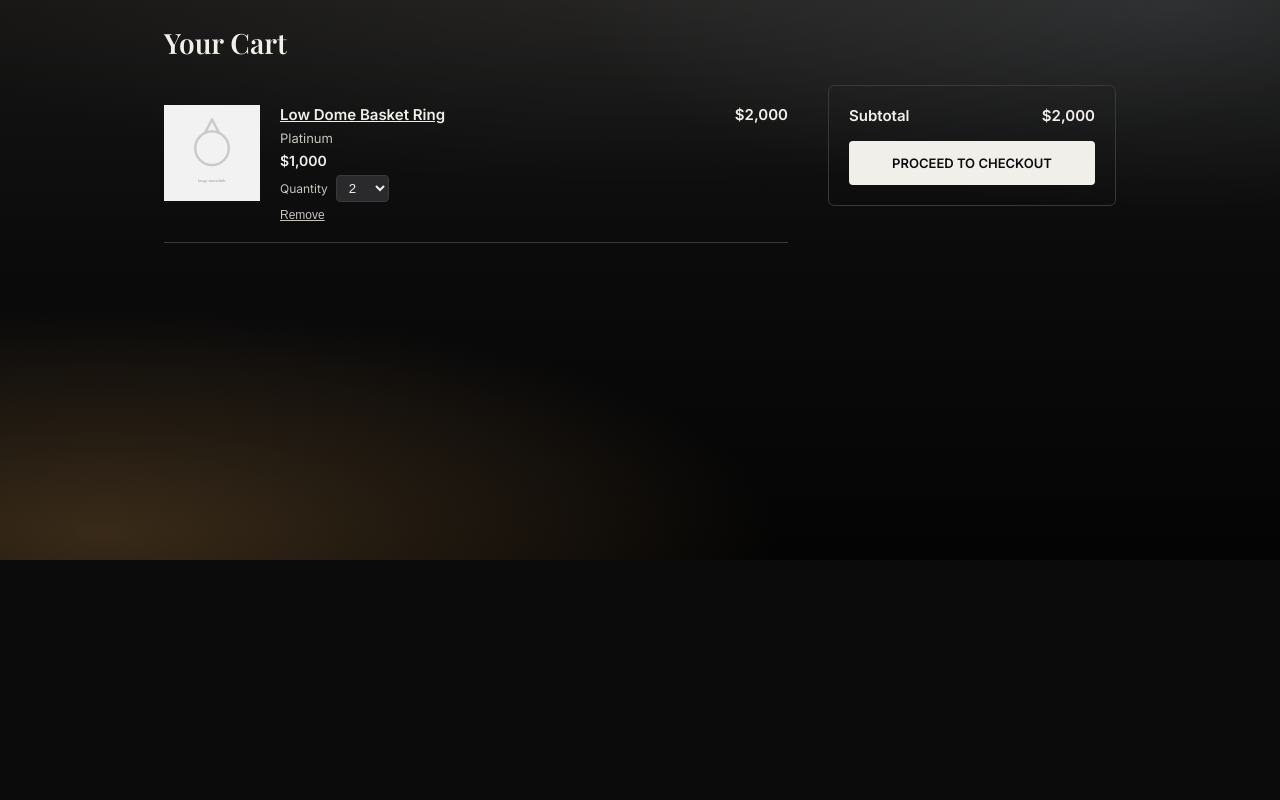
Test: CartPage › removes an item via the API when Remove is clicked
expect the link "Low Dome Basket Ring" is shown: met, box [280,105,445,124]
Click the button "Remove": [302, 215] box [280,208,325,222]
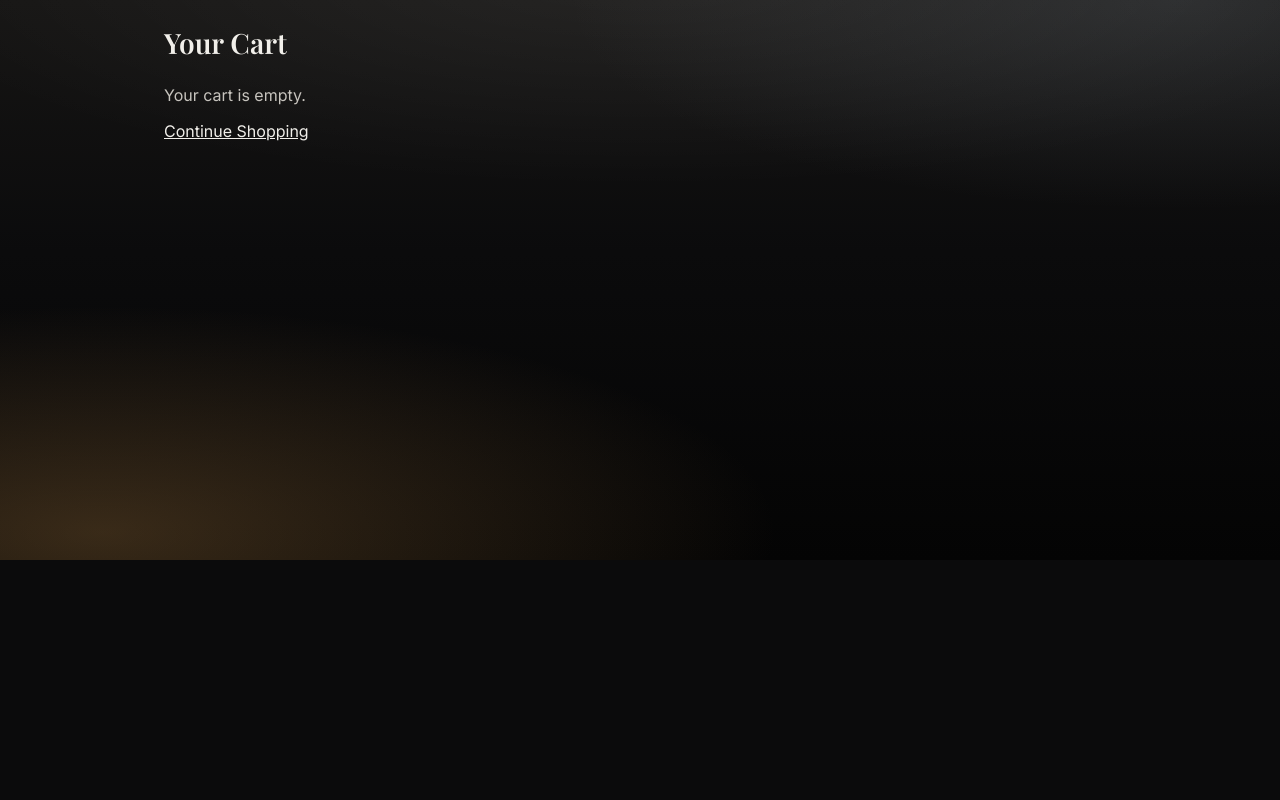
expect the text "Your cart is empty." is shown: met, box [164,85,306,105]
